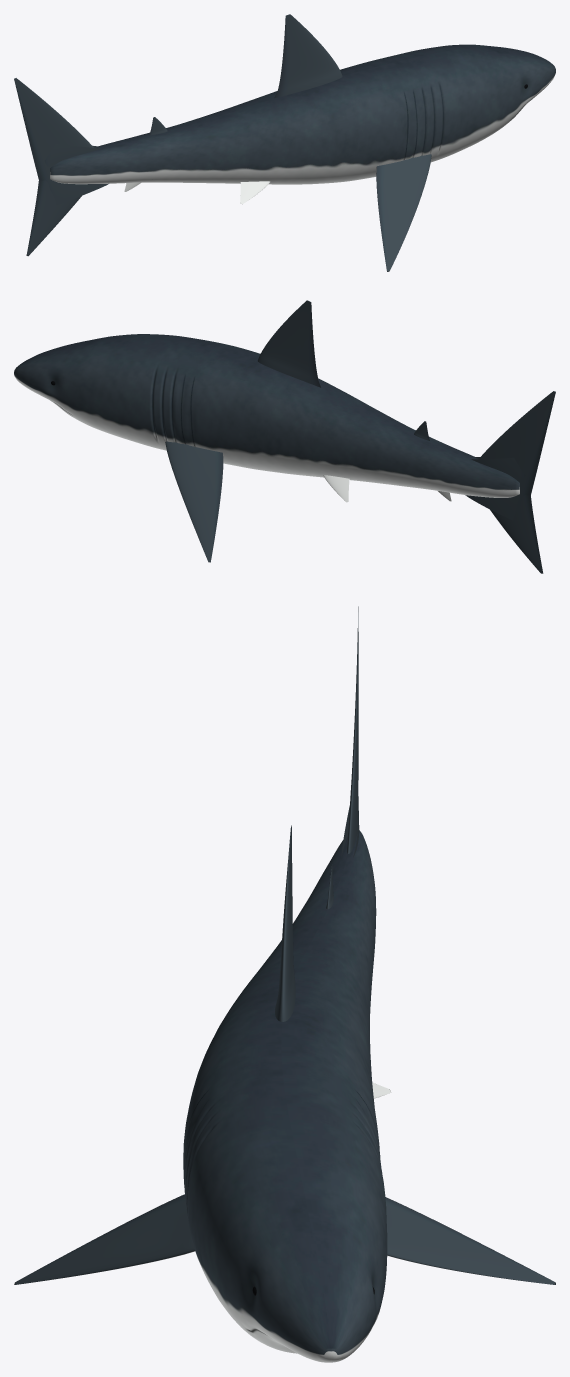
File: great_white.glb
3 views of the same model, one above another, from view 1: azimuth 30°, elevation 25°; view 2: azimuth 150°, elevation 25°; view 3: azimuth 270°, elevation 25° (orthographic). The views are drawn at different scales.
Visible parts, largest first — view 1: GreatWhite_Body, GreatWhite_Fins; view 2: GreatWhite_Body, GreatWhite_Fins; view 3: GreatWhite_Body, GreatWhite_Fins.
Part boxes in pixels (left/top/right/bottom): GreatWhite_Body: left=50, top=44, right=555, bottom=184; GreatWhite_Fins: left=14, top=14, right=431, bottom=271; GreatWhite_Body: left=14, top=334, right=519, bottom=497; GreatWhite_Fins: left=165, top=300, right=555, bottom=573; GreatWhite_Body: left=183, top=830, right=387, bottom=1362; GreatWhite_Fins: left=14, top=606, right=555, bottom=1284.
Size of the model in its own units: 4.5 by 1.72 by 1.98.
3 materials, 1 textured.
